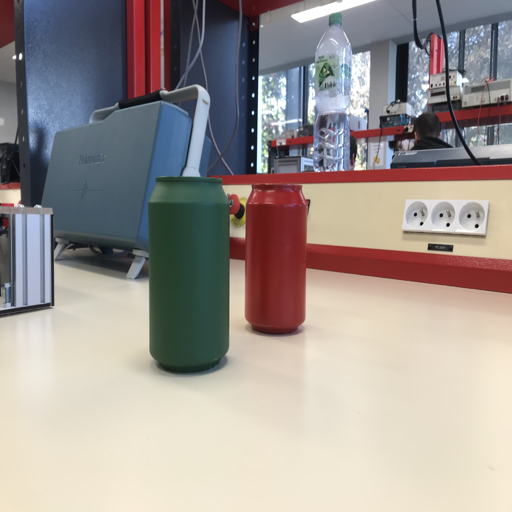Green_Can: (145, 174, 232, 373)
Red_Can: (242, 181, 308, 336)
